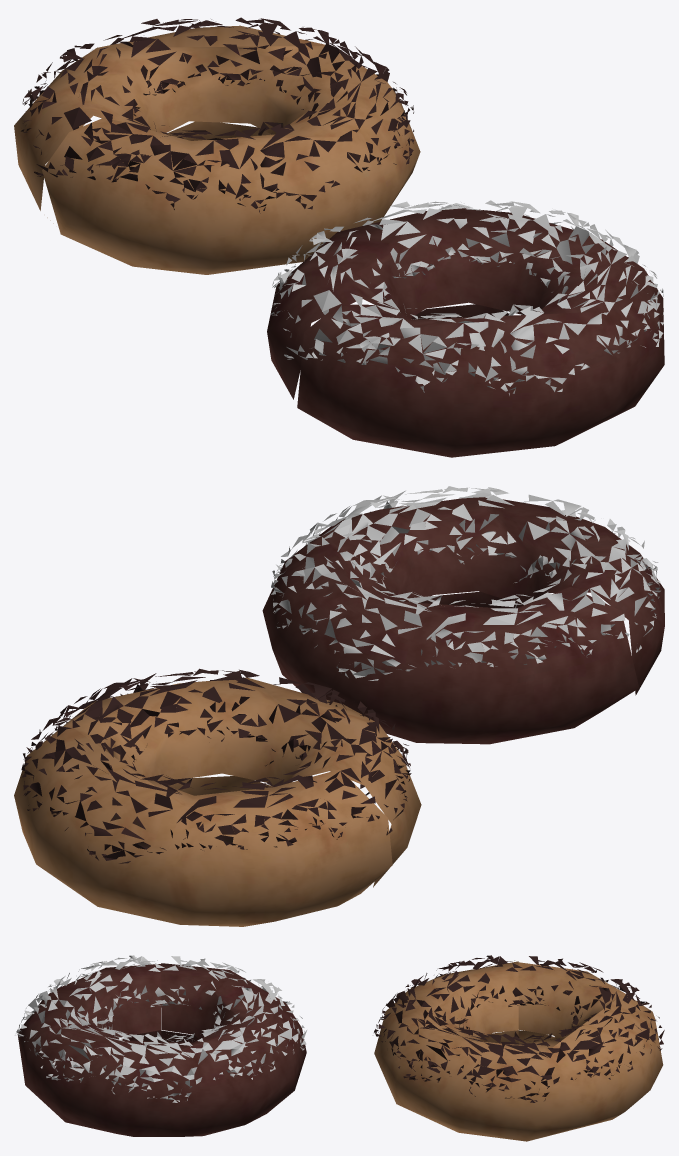
The model's file is donuts.glb.
3 views of the same model, one above another, from view 1: azimuth 30°, elevation 25°; view 2: azimuth 150°, elevation 25°; view 3: azimuth 270°, elevation 25° (orthographic). The views are drawn at different scales.
Visible parts, largest first — view 1: Donut01_Donut01_0, Donut02_Donut02_0, Donut02_Icing_Donut02_Icing_0, Donut01_Icing_Donut01_Icing_0; view 2: Donut02_Donut02_0, Donut01_Donut01_0, Donut01_Icing_Donut01_Icing_0, Donut02_Icing_Donut02_Icing_0; view 3: Donut01_Donut01_0, Donut02_Donut02_0, Donut02_Icing_Donut02_Icing_0, Donut01_Icing_Donut01_Icing_0.
Part boxes in pixels (x1,y1,x2,y2): Donut01_Donut01_0: (267,208,664,457); Donut02_Donut02_0: (14,25,420,274); Donut02_Icing_Donut02_Icing_0: (21,17,414,213); Donut01_Icing_Donut01_Icing_0: (270,200,663,395); Donut02_Donut02_0: (14,677,421,926); Donut01_Donut01_0: (262,497,664,744); Donut01_Icing_Donut01_Icing_0: (271,486,660,680); Donut02_Icing_Donut02_Icing_0: (21,668,411,863); Donut01_Donut01_0: (17,963,306,1136); Donut02_Donut02_0: (374,961,663,1141); Donut02_Icing_Donut02_Icing_0: (374,955,664,1102); Donut01_Icing_Donut01_Icing_0: (15,955,306,1102).
Size of the model in its own units: 0.1395 by 0.0498 by 0.3049.
Materials: 4 (4 with a texture image).
